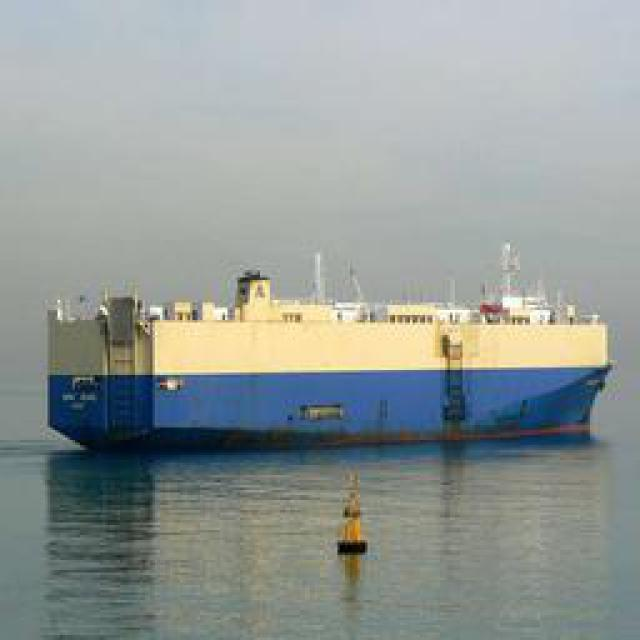Ship: (39, 265, 599, 448)
